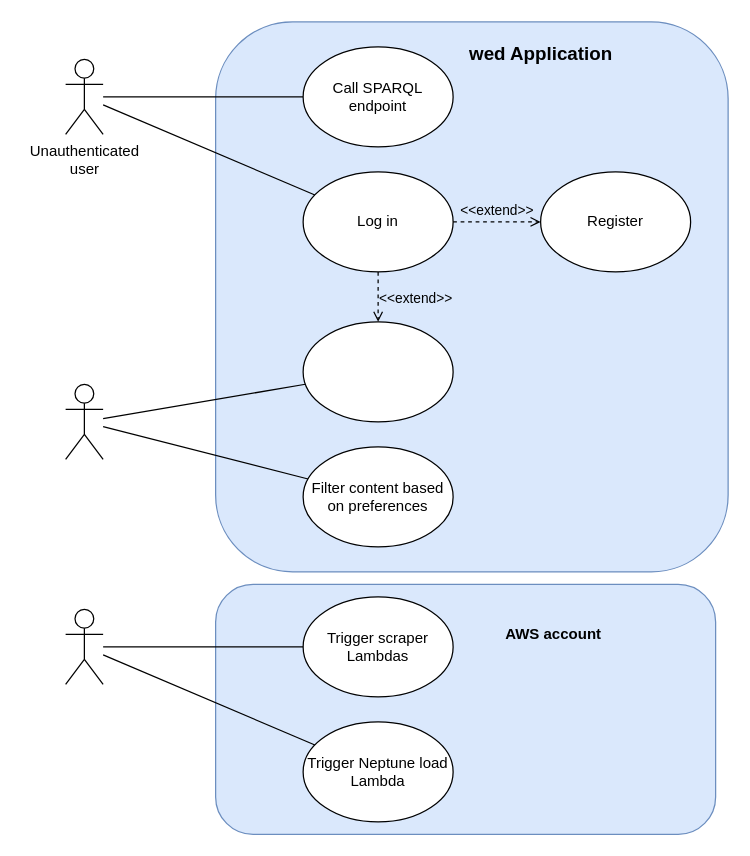
This 750x856 diagram has some shape labels left out. Each missing label, with the box of its shape:
Authenticated user: (64, 383, 103, 459)
AWS Administrator: (64, 608, 103, 684)
Manage preferences: (302, 321, 453, 422)
